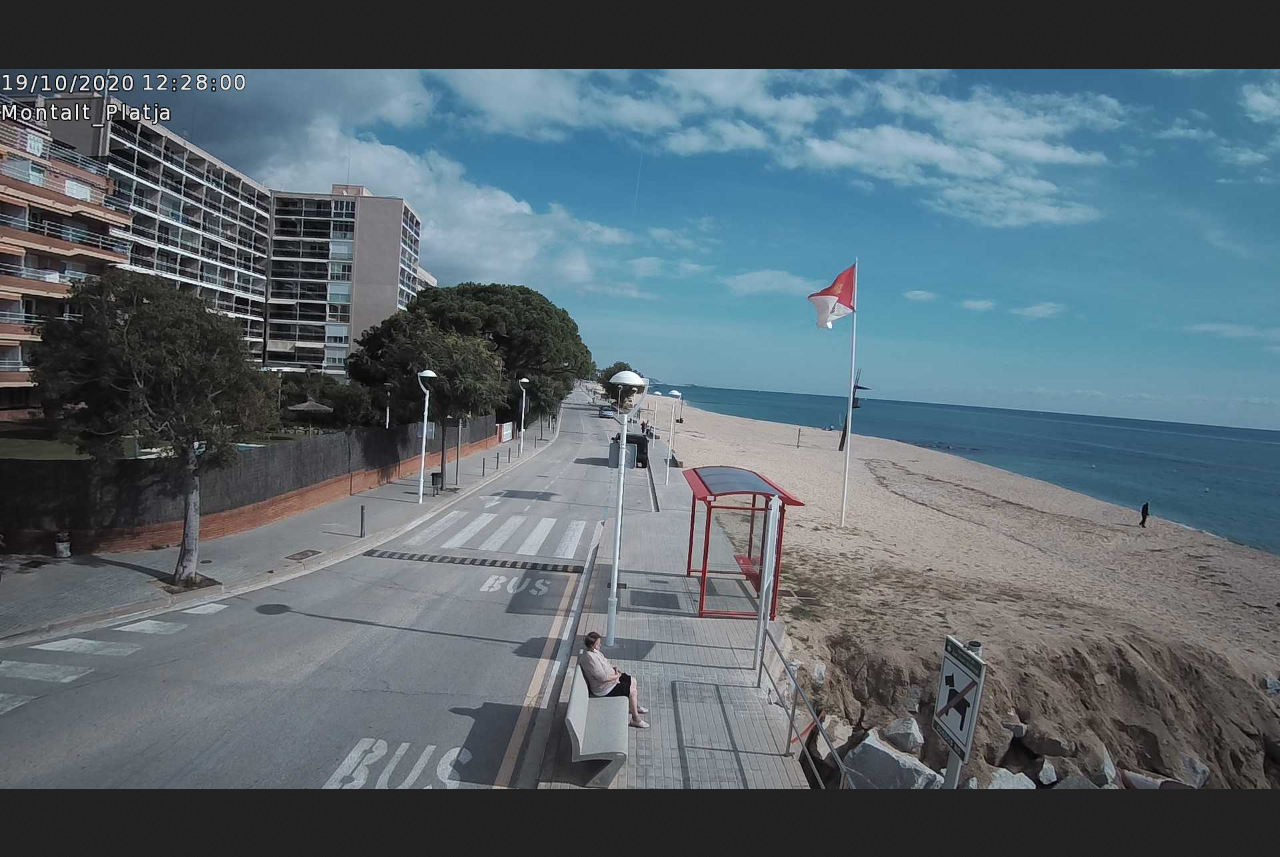maybe: (805, 266, 858, 330)
